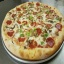pepperoni: (45, 36, 56, 49), (27, 40, 39, 49), (7, 29, 15, 40), (54, 23, 63, 32), (15, 6, 23, 15), (6, 18, 13, 27)
pizza: (1, 2, 62, 59)
